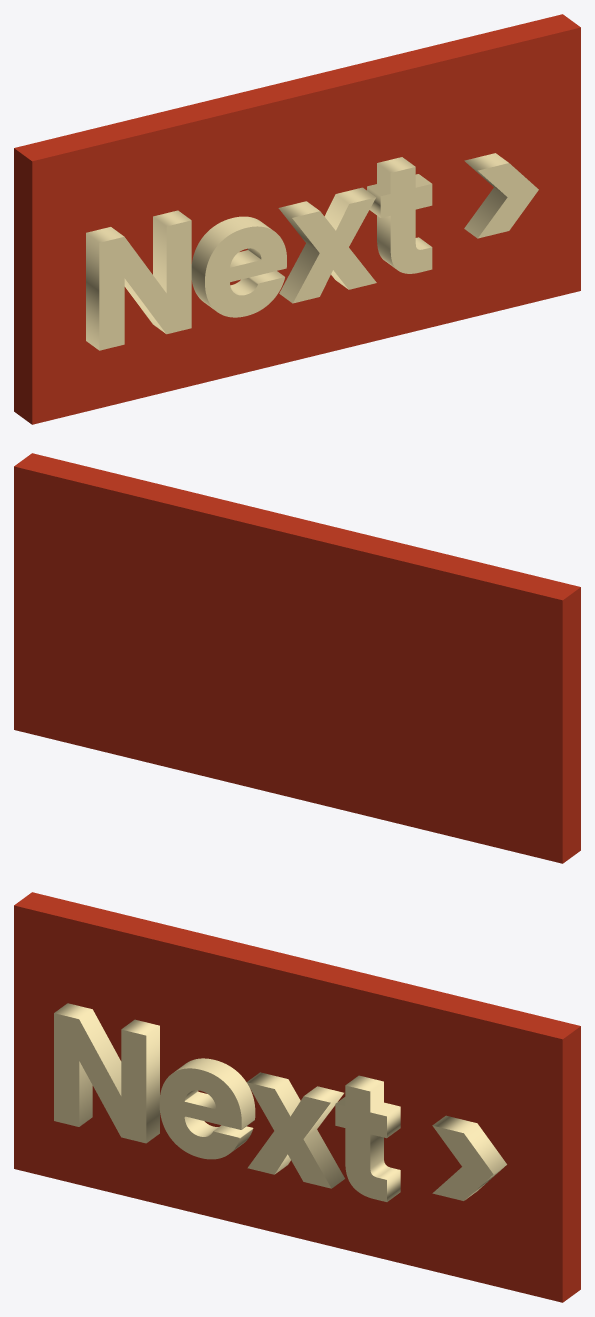
The model's file is nextButton.gltf.
The picture shows the model from 3 angles, top to bottom: view 1: azimuth 30°, elevation 25°; view 2: azimuth 150°, elevation 25°; view 3: azimuth 330°, elevation 25°; orthographic projection.
Visible parts, largest first — view 1: nextButton, Text; view 2: nextButton; view 3: nextButton, Text.
Boxes of the visible parts, x1=… form: nextButton: x1=14, y1=14, x2=580, y2=424; Text: x1=86, y1=153, x2=538, y2=350; nextButton: x1=14, y1=453, x2=580, y2=863; nextButton: x1=14, y1=892, x2=580, y2=1302; Text: x1=54, y1=1003, x2=506, y2=1201.
Bounding box in the file's own units: 2.18 × 1 × 0.2186.
